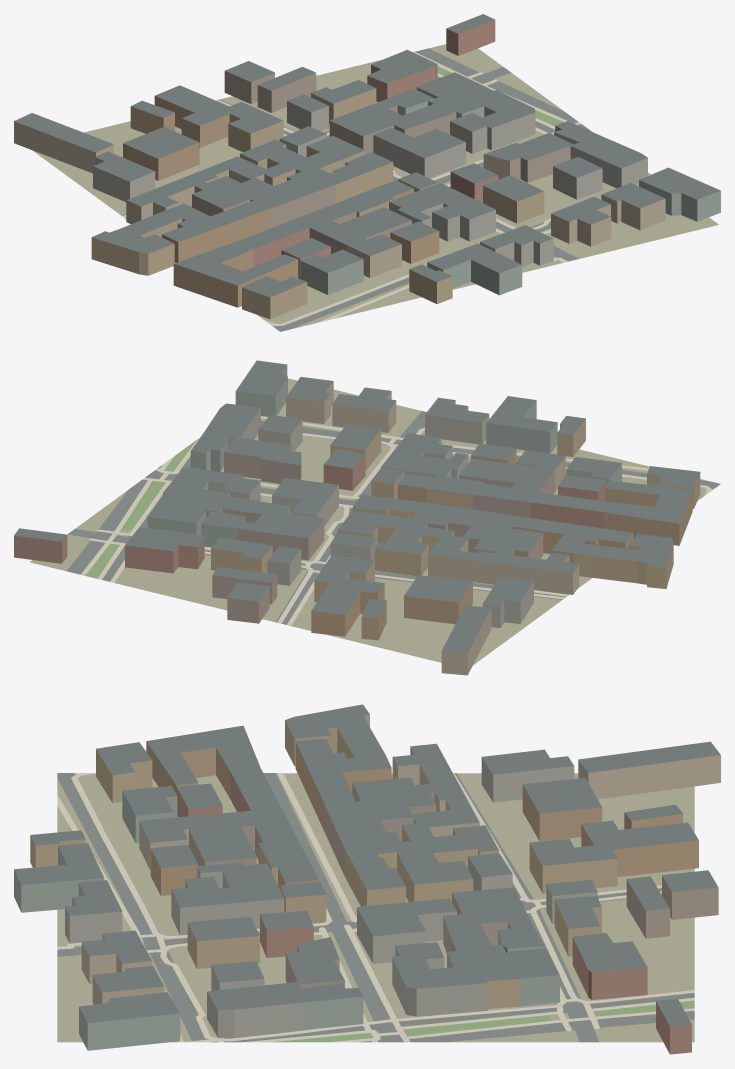
The model's file is sector--2_-5.glb.
3 views of the same model, one above another, from view 1: azimuth 30°, elevation 25°; view 2: azimuth 150°, elevation 25°; view 3: azimuth 270°, elevation 25° (orthographic). The views are drawn at different scales.
Parts seen in each view (by area): view 1: -2:-5-facade, -2:-5-roof, -2:-5-ground, -2:-5-road, -2:-5-paving; view 2: -2:-5-roof, -2:-5-facade, -2:-5-ground, -2:-5-road, -2:-5-paving, -2:-5-park; view 3: -2:-5-roof, -2:-5-facade, -2:-5-ground, -2:-5-road, -2:-5-paving, -2:-5-park.
Part boxes in pixels (x1,y1,x2,y2): -2:-5-facade: (14,20,720,319); -2:-5-roof: (14,14,720,297); -2:-5-ground: (32,44,718,329); -2:-5-road: (122,48,650,331); -2:-5-paving: (122,51,649,325); -2:-5-roof: (14,360,699,653); -2:-5-facade: (14,365,700,675); -2:-5-ground: (30,378,713,664); -2:-5-road: (66,411,720,624); -2:-5-paving: (81,416,711,625); -2:-5-park: (85,440,195,578); -2:-5-roof: (14,704,720,1026); -2:-5-facade: (14,714,720,1054); -2:-5-ground: (57,773,694,1042); -2:-5-road: (57,773,694,1042); -2:-5-paving: (57,773,694,1042); -2:-5-park: (276,1000,694,1042).
Size of the model in its own units: 240 by 9.6 by 222.
